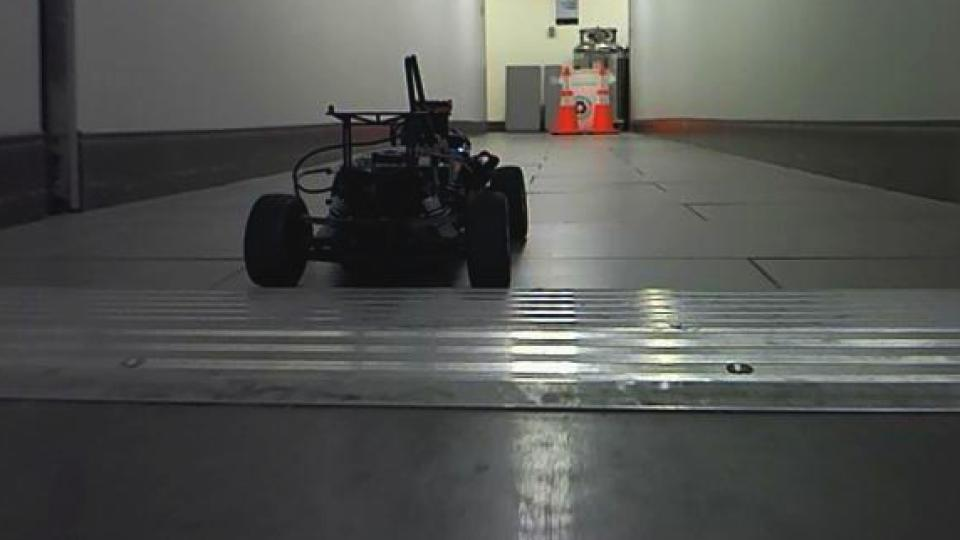car: (238, 52, 530, 292)
